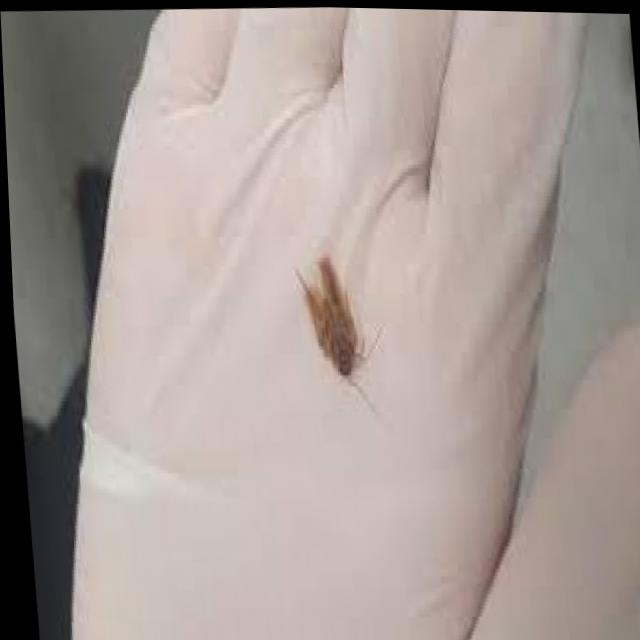Cockroach: (286, 229, 389, 418)
